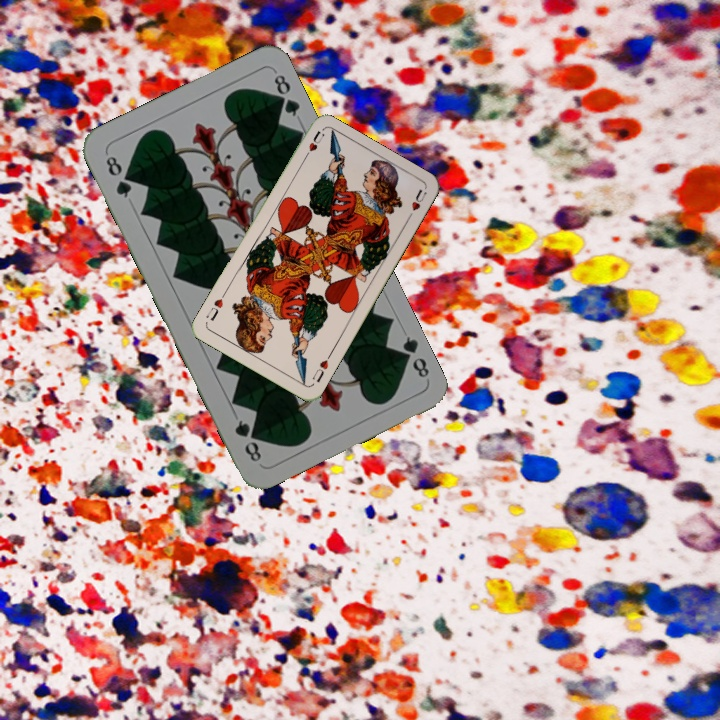G8: (393, 332, 432, 381), (101, 151, 135, 201)
HU: (299, 127, 327, 164), (308, 350, 334, 385)
